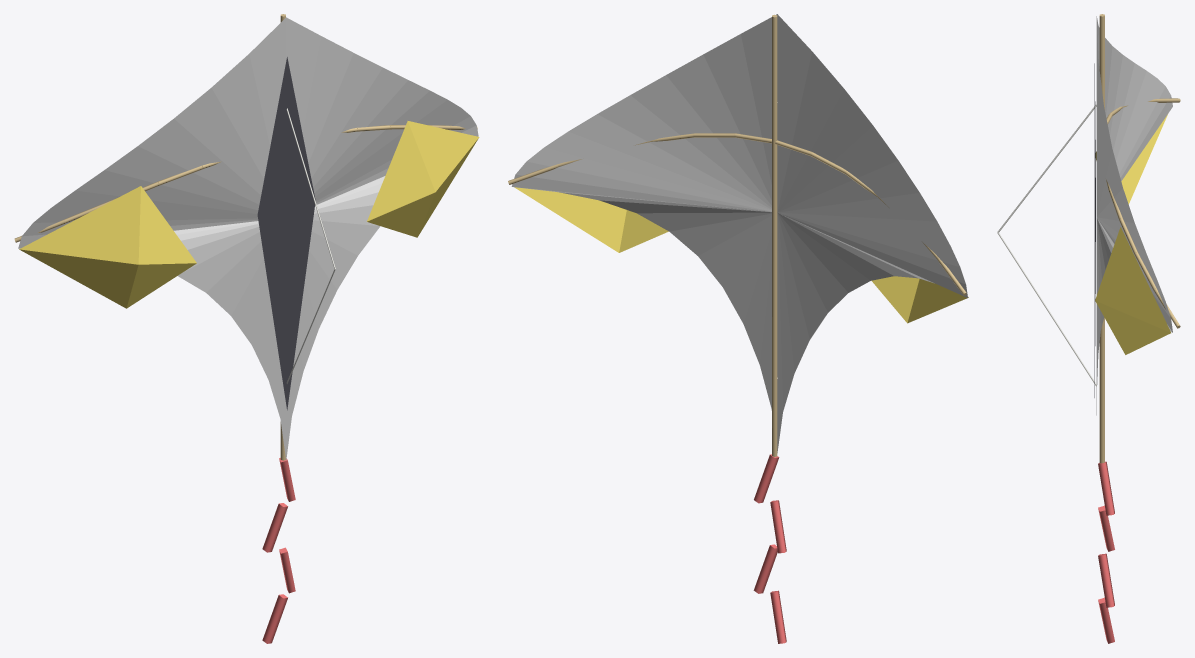
The model's file is kite_acro.glb.
The picture shows the model from 3 angles, left to right: view 1: azimuth 30°, elevation 25°; view 2: azimuth 150°, elevation 25°; view 3: azimuth 270°, elevation 25°; orthographic projection.
Visible parts, largest first — view 1: KiteAcro; view 2: KiteAcro; view 3: KiteAcro.
Boxes of the visible parts, x1,y1,x2,y2 form: KiteAcro: [14, 14, 479, 643]; KiteAcro: [508, 14, 968, 643]; KiteAcro: [997, 14, 1180, 643].
Bounding box in the file's own units: 1.91 × 2.48 × 0.6504.
